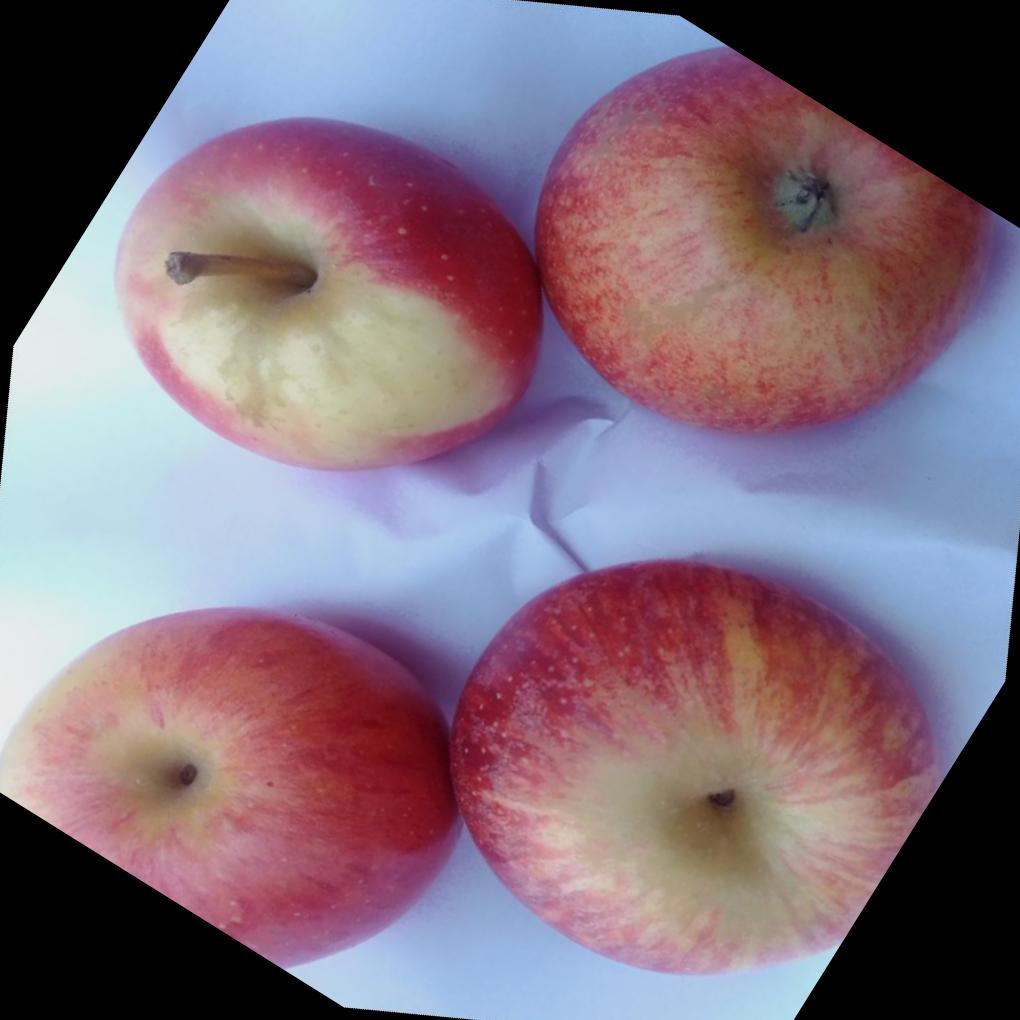FreshGuava: (0, 555, 943, 972), (115, 40, 986, 468)
